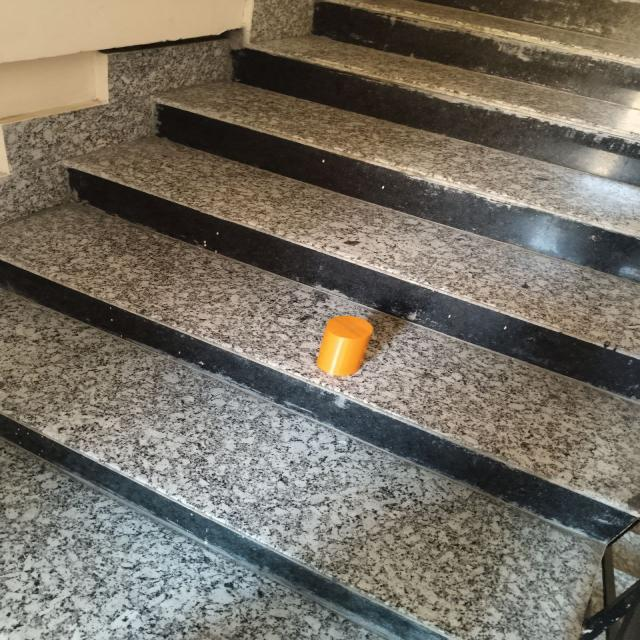Cylinder: (315, 314, 373, 376)
